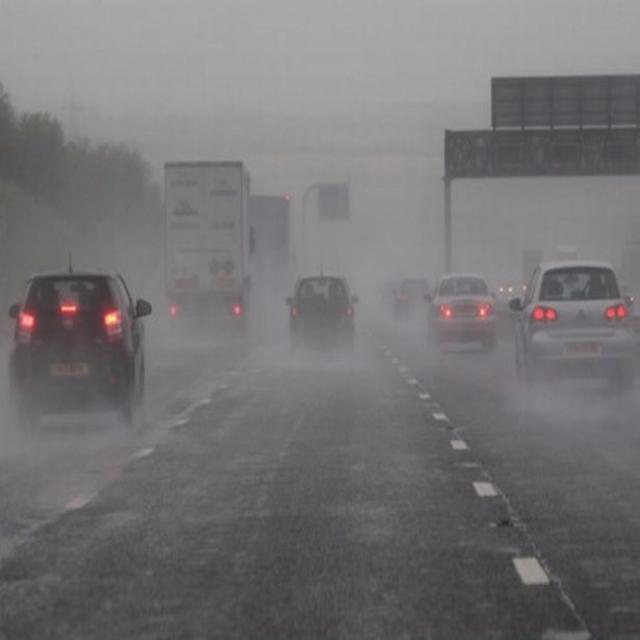bus: (161, 153, 253, 330)
car: (10, 268, 153, 430), (509, 258, 637, 389), (430, 276, 500, 351), (287, 276, 357, 334), (390, 276, 436, 328)
